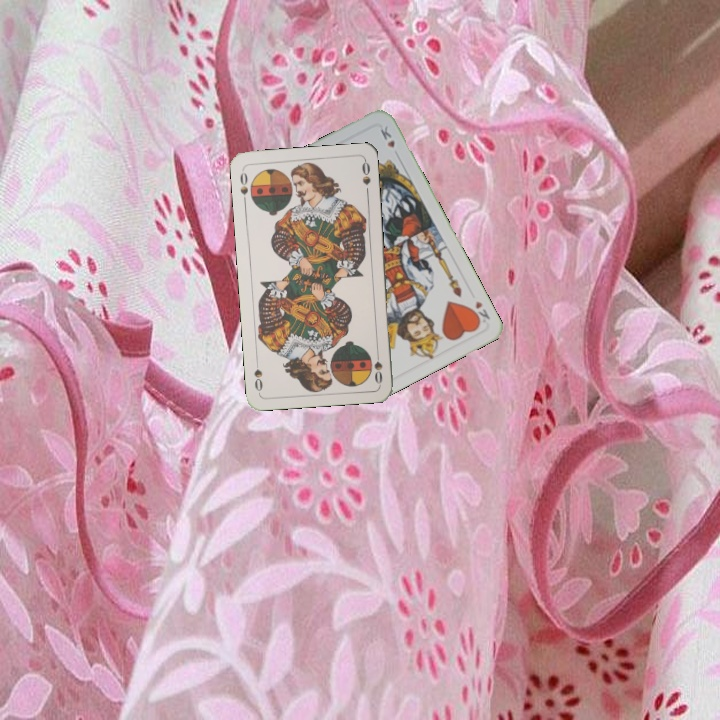HK: (467, 297, 493, 326)
SO: (370, 346, 385, 386), (236, 166, 250, 207)
